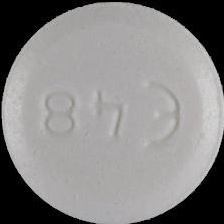63187-302: (0, 0, 224, 224)
